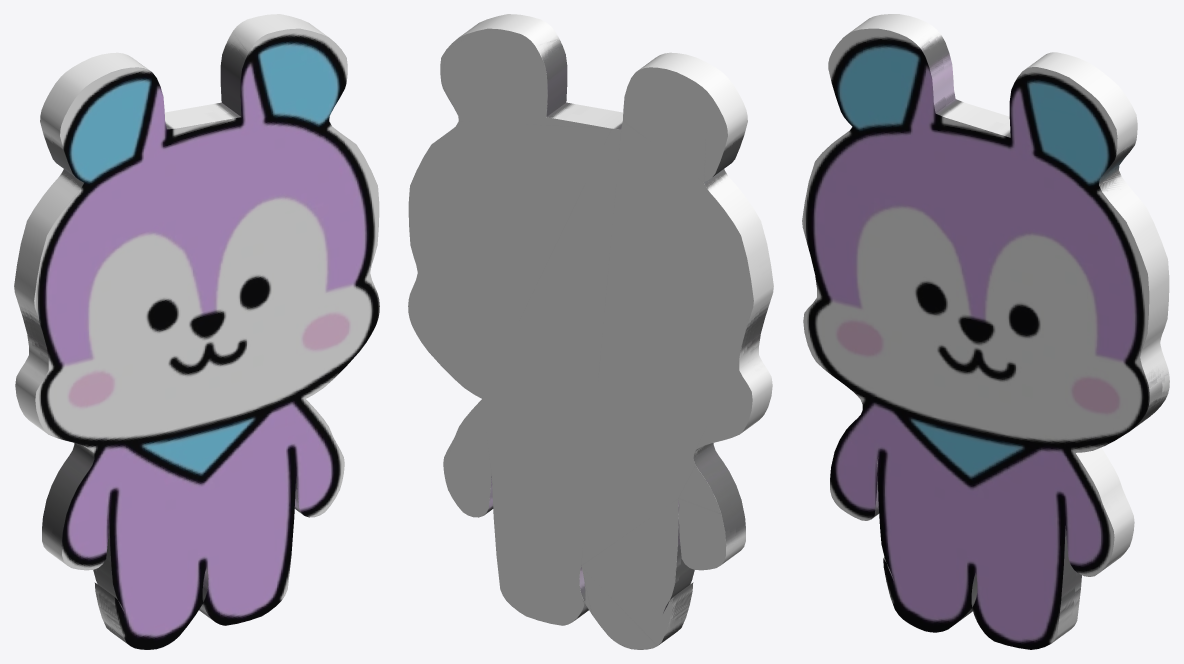
The model's file is bt21_mang.glb.
The picture shows the model from 3 angles, left to right: view 1: azimuth 30°, elevation 25°; view 2: azimuth 150°, elevation 25°; view 3: azimuth 330°, elevation 25°; orthographic projection.
Visible parts, largest first — view 1: Object_5; view 2: Object_5; view 3: Object_5.
Part boxes in pixels (x1=…): Object_5: x1=14, y1=14, x2=379, y2=649; Object_5: x1=408, y1=14, x2=773, y2=649; Object_5: x1=802, y1=14, x2=1169, y2=649.
Bounding box in the file's own units: 0.3376 × 0.5491 × 0.0338.
Materials: 1 (1 with a texture image).
